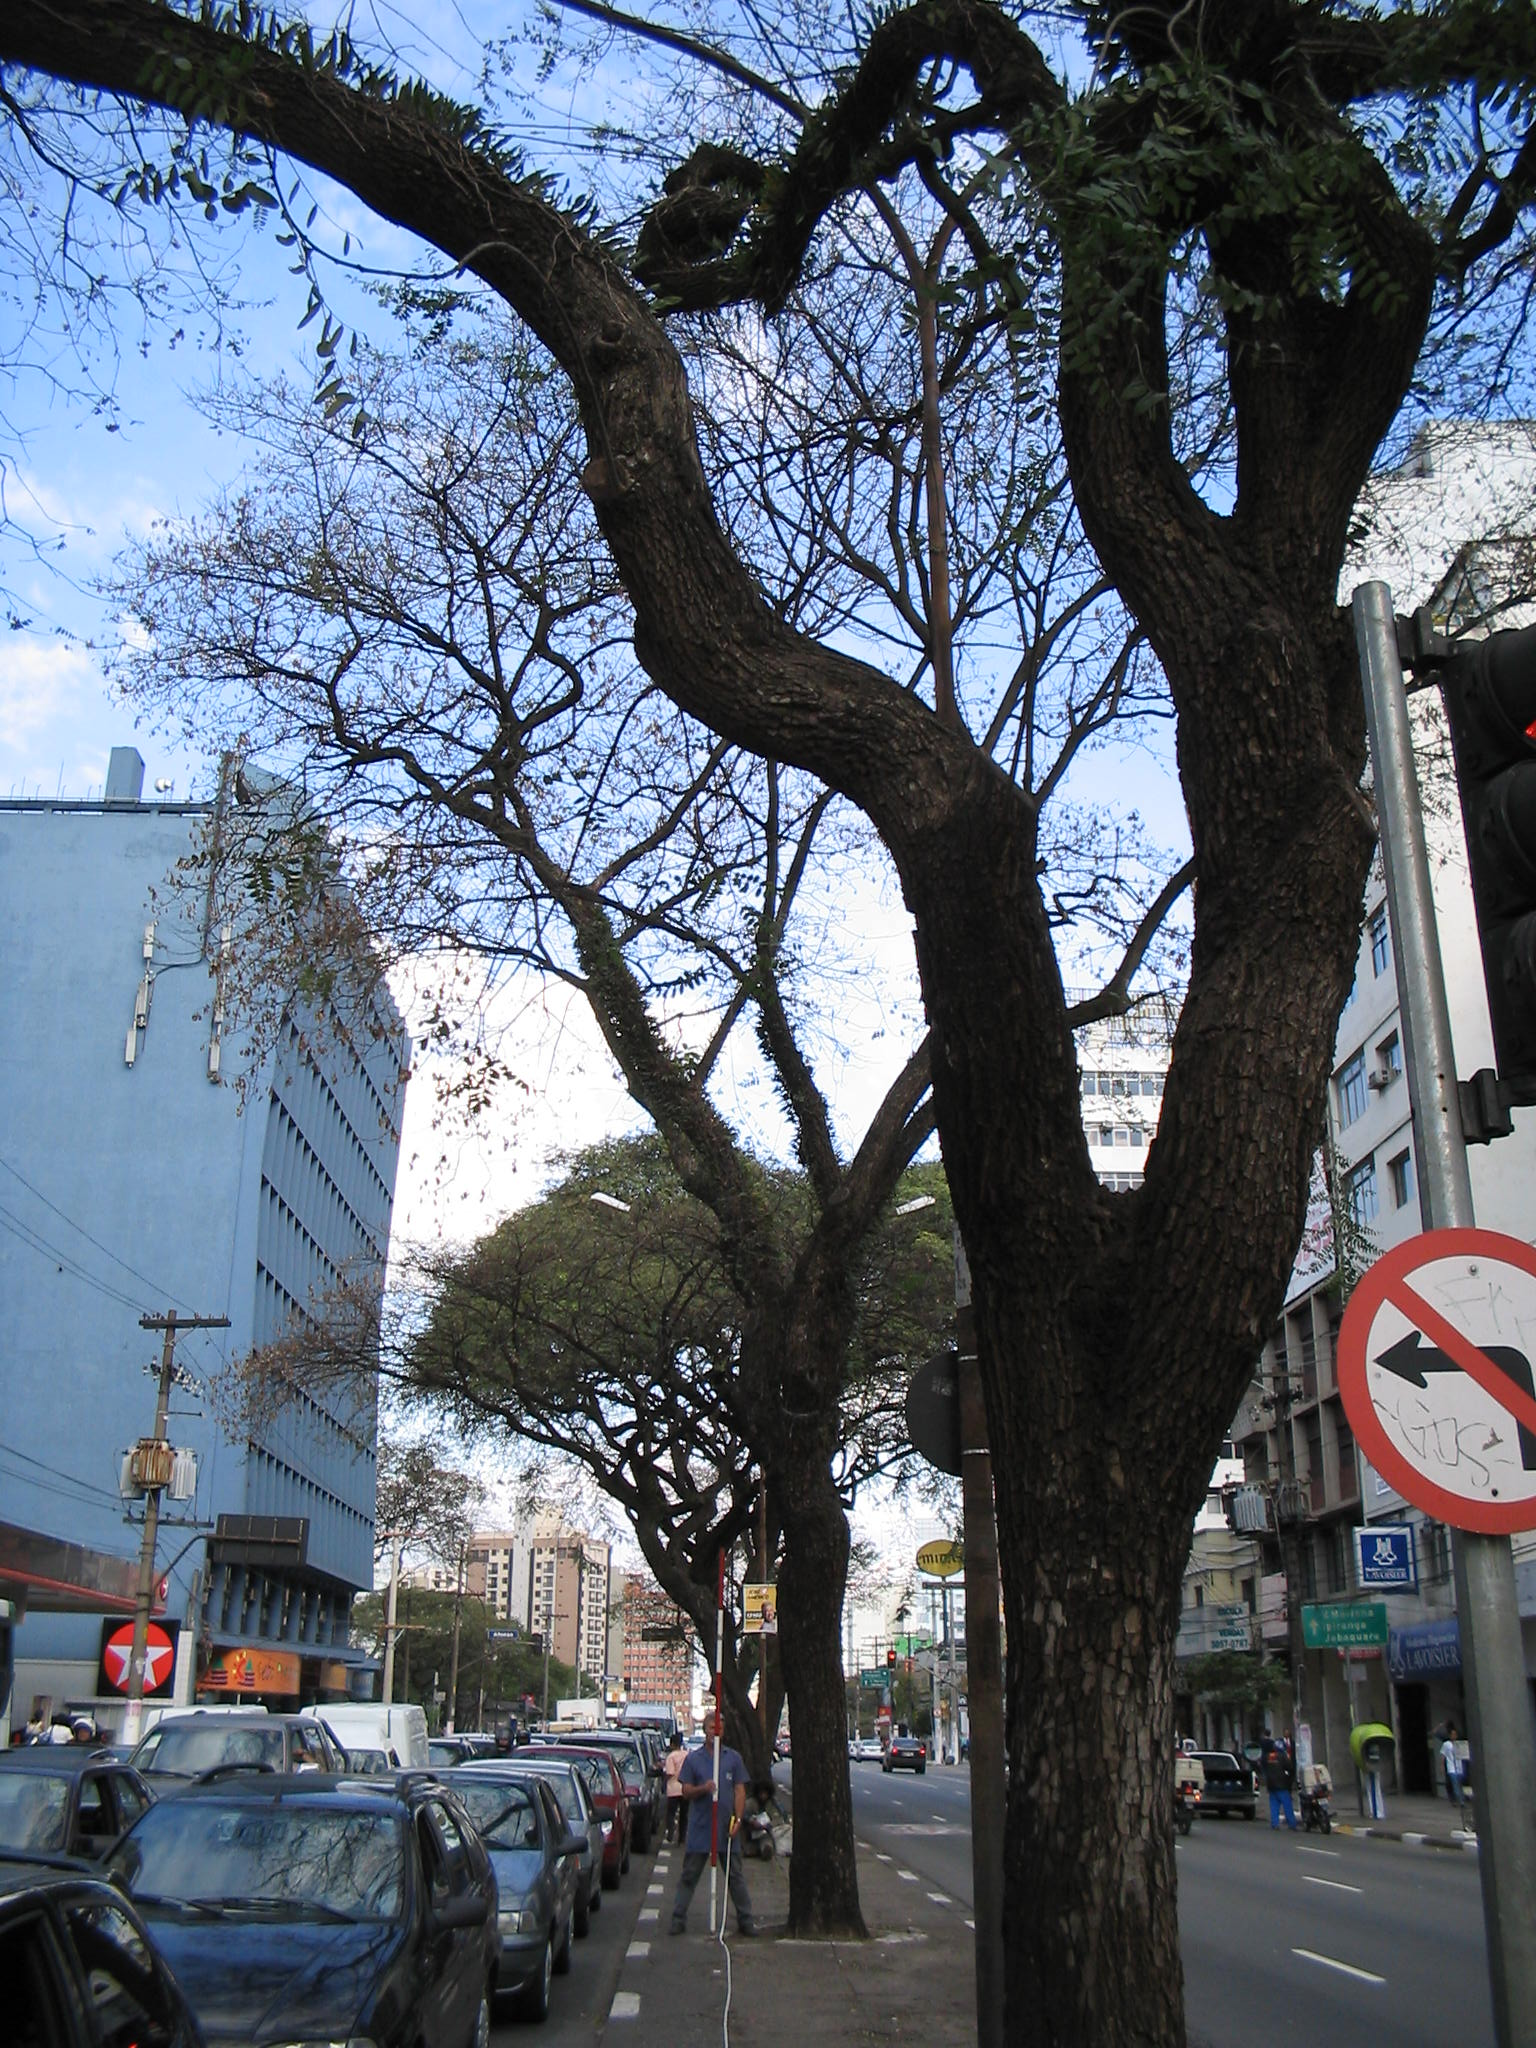stem: (913, 1384, 1305, 2037), (745, 1484, 912, 1940)
stick: (699, 1545, 737, 1929)
tree: (23, 5, 1497, 2046)
